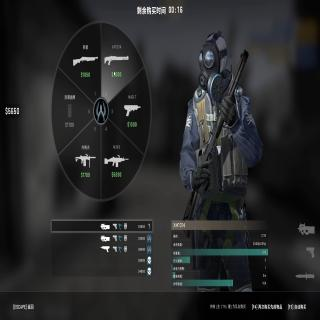CT-Body: (180, 29, 262, 218)
CT-Head: (198, 31, 228, 92)
